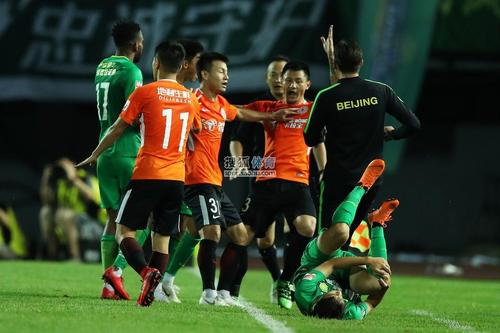fall: (286, 161, 409, 317)
